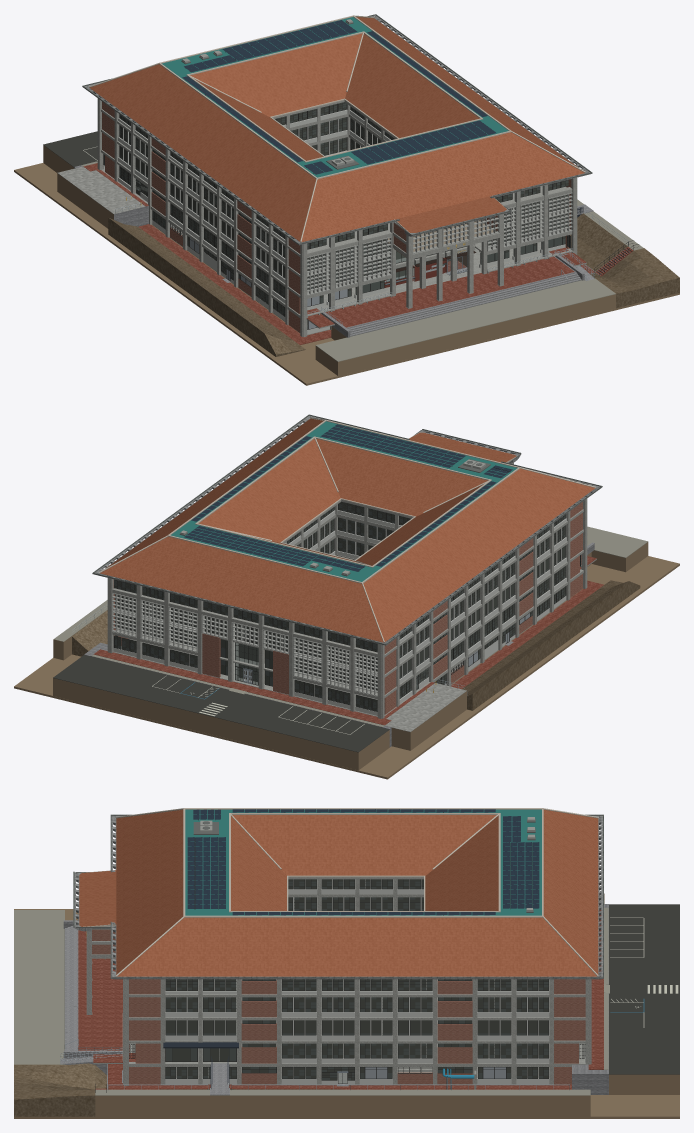
Rendered from thu-library.glb.
3 views of the same model, one above another, from view 1: azimuth 30°, elevation 25°; view 2: azimuth 150°, elevation 25°; view 3: azimuth 270°, elevation 25° (orthographic). The views are drawn at different scales.
Visible parts, largest first — view 1: roof__向中庭下降的內圈瓦坡面, structure__入口與外牆洗石子, site__統一場地基底, site__廣場右前連續地坪從坡頂緩降至階梯, entry__玻璃後淺段地磚, court__中庭鋪面周圈, front__正面長格柵 1, roof__光電模組 正門側主列, front__黑鐵窗框, front__深灰褐偏光玻璃, front__窗下淺灰牆, roof__瓦面轉角淺色收邊 (+11 smaller); view 2: roof__向中庭下降的內圈瓦坡面, structure__入口與外牆洗石子, site__統一場地基底, site__後側小停車區與車行通道, front__黑鐵窗框, front__深灰褐偏光玻璃, front__正面長格柵 1, roof__光電模組 正門側主列, site__廣場右前連續地坪從坡頂緩降至階梯, front__窗下淺灰牆, front__深灰偏光玻璃, entry__入口側牆磚面 (+9 smaller); view 3: roof__向中庭下降的內圈瓦坡面, structure__入口與外牆洗石子, site__統一場地基底, front__深灰褐偏光玻璃, entry__入口側牆磚面, site__後側小停車區與車行通道, court__中庭鋪面周圈, front__黑鐵窗框, front__窗下淺灰牆, front__深灰偏光玻璃, entry__玻璃後淺段地磚, roof__光電模組 正門側主列 (+11 smaller).
Part boxes in pixels (x1,y1,x2,y2): roof__向中庭下降的內圈瓦坡面: [89, 17, 584, 242]; structure__入口與外牆洗石子: [97, 98, 586, 336]; site__統一場地基底: [14, 145, 679, 385]; site__廣場右前連續地坪從坡頂緩降至階梯: [108, 213, 679, 356]; entry__玻璃後淺段地磚: [83, 163, 633, 345]; court__中庭鋪面周圈: [81, 161, 643, 361]; front__正面長格柵 1: [307, 192, 572, 295]; roof__光電模組 正門側主列: [182, 20, 495, 174]; front__黑鐵窗框: [103, 26, 638, 329]; front__深灰褐偏光玻璃: [104, 102, 568, 323]; front__窗下淺灰牆: [103, 109, 569, 334]; roof__瓦面轉角淺色收邊: [89, 15, 585, 242]; roof__向中庭下降的內圈瓦坡面: [100, 418, 595, 642]; structure__入口與外牆洗石子: [107, 462, 596, 718]; site__統一場地基底: [14, 542, 679, 779]; site__後側小停車區與車行通道: [53, 655, 389, 752]; front__黑鐵窗框: [113, 429, 580, 711]; front__深灰褐偏光玻璃: [114, 501, 565, 710]; front__正面長格柵 1: [112, 593, 377, 696]; roof__光電模組 正門側主列: [184, 424, 512, 571]; site__廣場右前連續地坪從坡頂緩降至階梯: [72, 580, 640, 710]; front__窗下淺灰牆: [113, 510, 566, 715]; front__深灰偏光玻璃: [114, 502, 565, 711]; entry__入口側牆磚面: [113, 502, 582, 714]; roof__向中庭下降的內圈瓦坡面: [79, 809, 598, 976]; structure__入口與外牆洗石子: [86, 877, 591, 1089]; site__統一場地基底: [14, 894, 679, 1118]; front__深灰褐偏光玻璃: [165, 879, 548, 1080]; entry__入口側牆磚面: [92, 929, 585, 1084]; site__後側小停車區與車行通道: [609, 904, 679, 1074]; court__中庭鋪面周圈: [14, 907, 609, 1095]; front__黑鐵窗框: [95, 812, 585, 1092]; front__窗下淺灰牆: [165, 888, 585, 1084]; front__深灰偏光玻璃: [165, 881, 548, 1080]; entry__玻璃後淺段地磚: [78, 910, 603, 1089]; roof__光電模組 正門側主列: [187, 809, 539, 915].
Bounding box in the file's own units: 68.86 × 23.68 × 93.32.
Materials: 54 (15 with a texture image).
